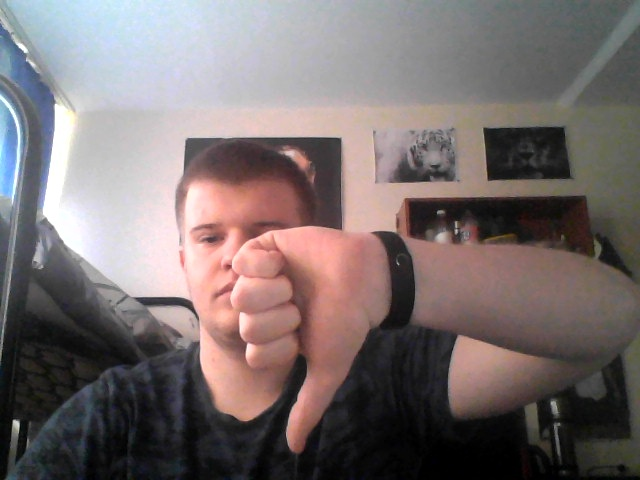thumbsdown: (228, 223, 385, 456)
